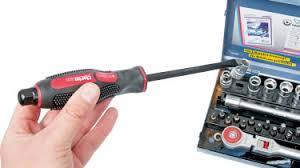screwdriver: (17, 54, 242, 105)
